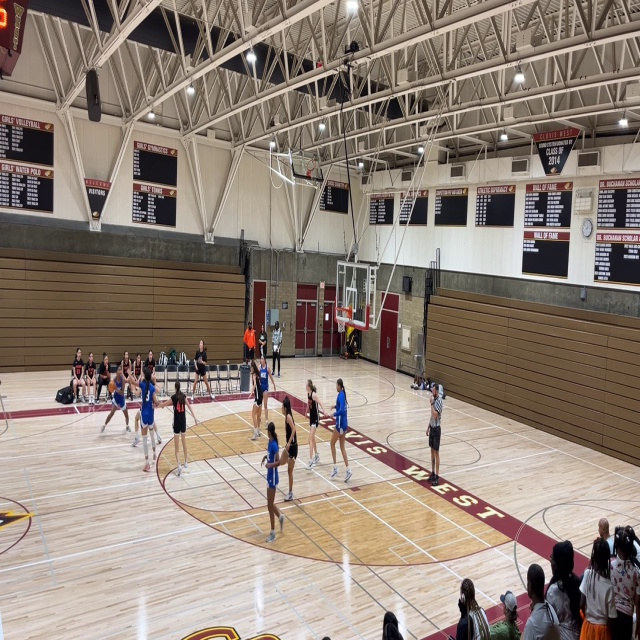Basketball: (107, 381, 117, 392)
